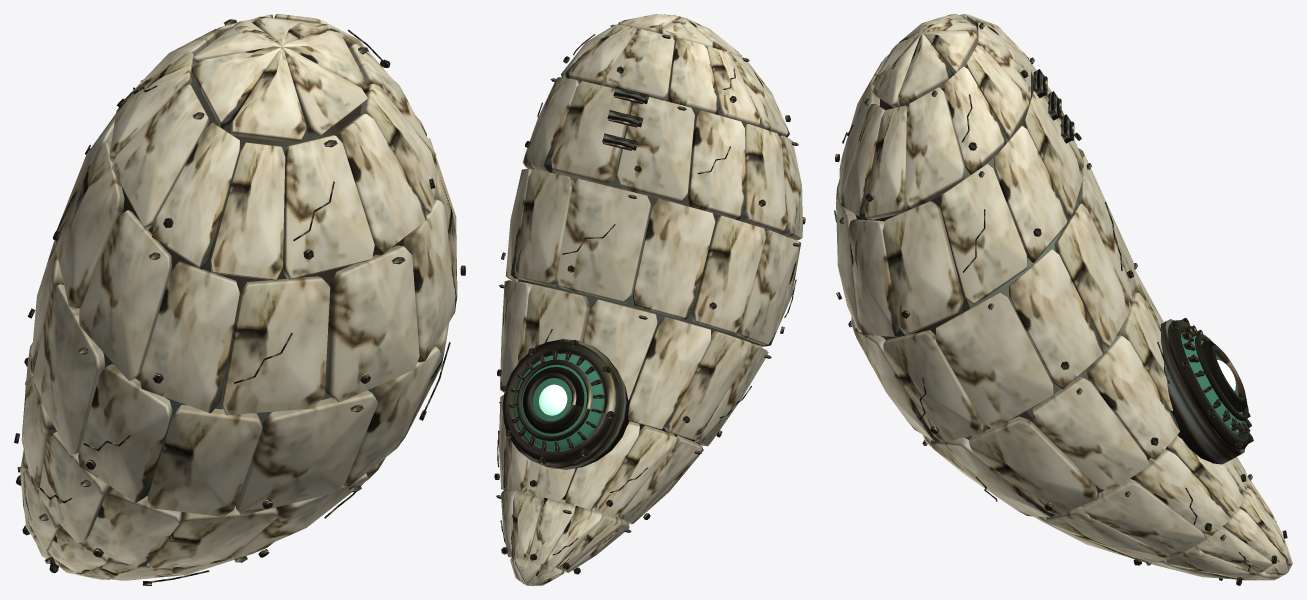
File: body-chimera-v3.glb
3 views of the same model, side by side, from view 1: azimuth 30°, elevation 25°; view 2: azimuth 150°, elevation 25°; view 3: azimuth 270°, elevation 25° (orthographic). The views are drawn at different scales.
Visible parts, largest first — view 1: chimera-ceramic, chimera-steel, chimera-brass; view 2: chimera-ceramic, chimera-brass, chimera-steel, chimera-glass, chimera-light; view 3: chimera-ceramic, chimera-steel, chimera-brass, chimera-glass.
Boxes of the visible parts, x1,y1,x2,y2 form: chimera-ceramic: [20, 14, 457, 580]; chimera-steel: [17, 19, 450, 583]; chimera-brass: [14, 59, 465, 585]; chimera-ceramic: [498, 14, 802, 585]; chimera-brass: [494, 56, 805, 574]; chimera-steel: [496, 24, 800, 555]; chimera-glass: [514, 353, 604, 451]; chimera-light: [539, 384, 567, 415]; chimera-ceramic: [836, 14, 1292, 580]; chimera-steel: [834, 23, 1276, 570]; chimera-brass: [835, 70, 1287, 585]; chimera-glass: [1180, 332, 1243, 435].
Bounding box in the file's own units: 0.9208 × 1.57 × 1.19.
Materials: 5 (3 with a texture image).
